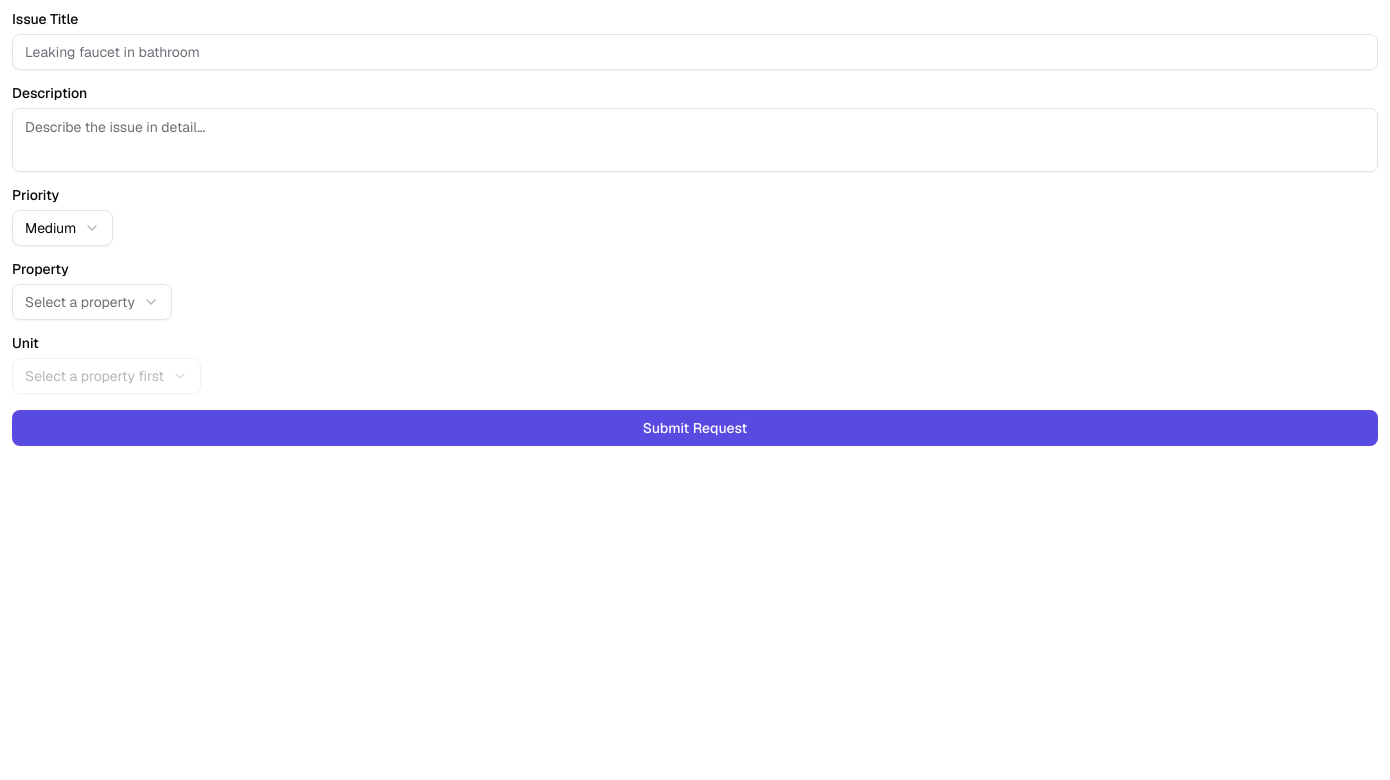
MaintenanceForm › shows validation errors on empty submit
Click the button "Submit Request": click(695, 428) [12,410,1378,446]
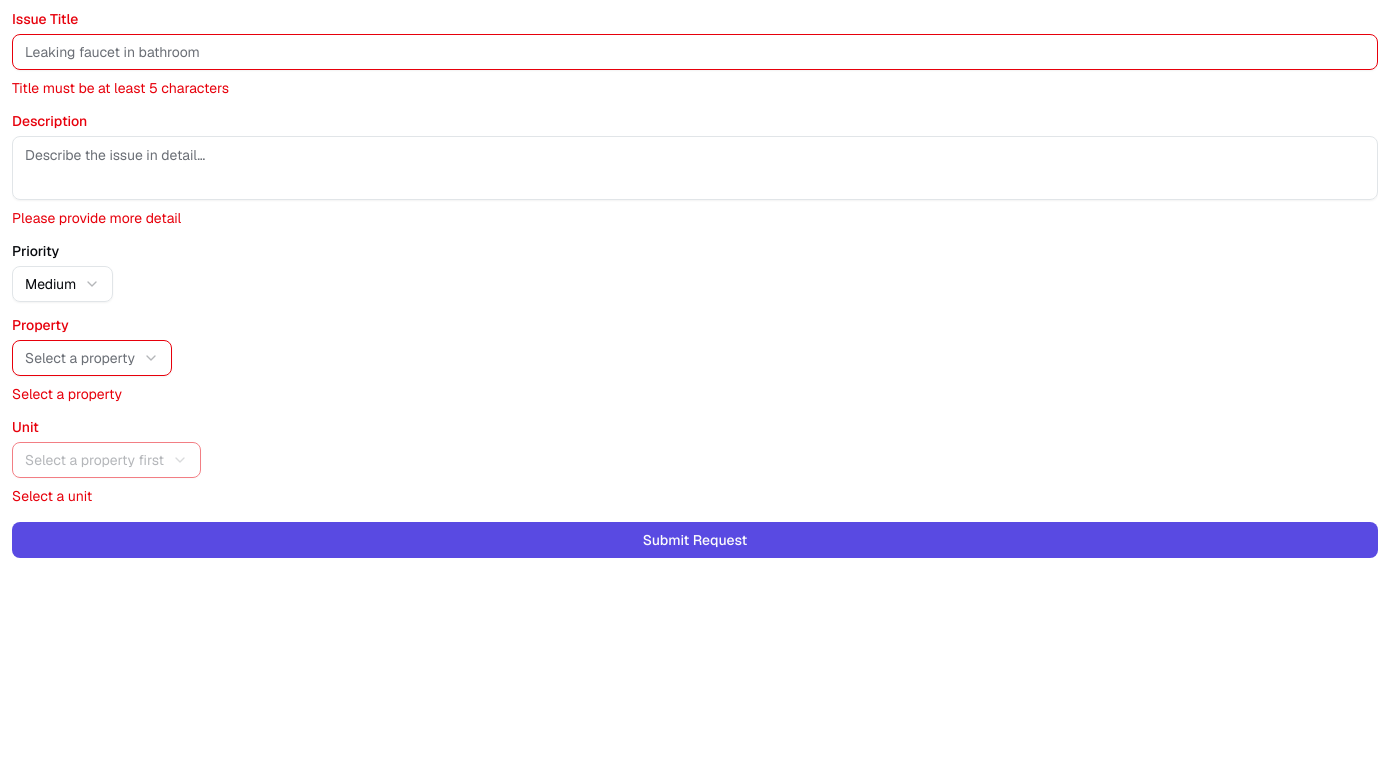
Result: the text "Title must be at least 5 characters" is shown at [12,79,229,97]
